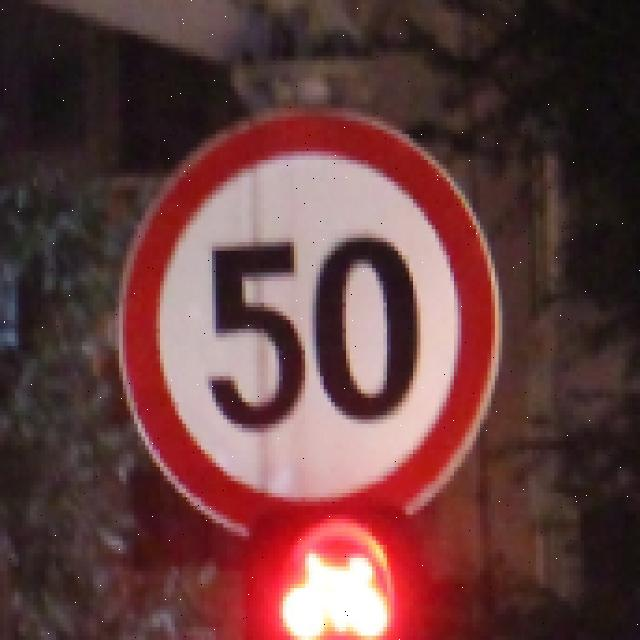speed limit 50: (121, 108, 503, 539)
